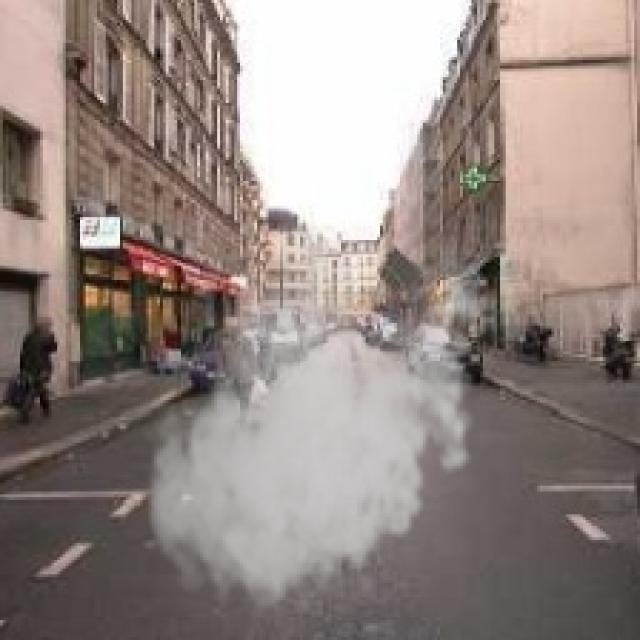smoke: (140, 226, 494, 623)
